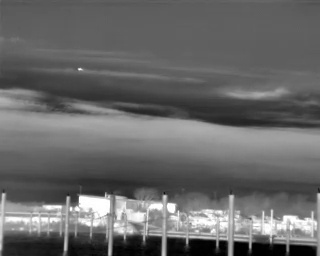BIRD: (75, 64, 85, 74)
